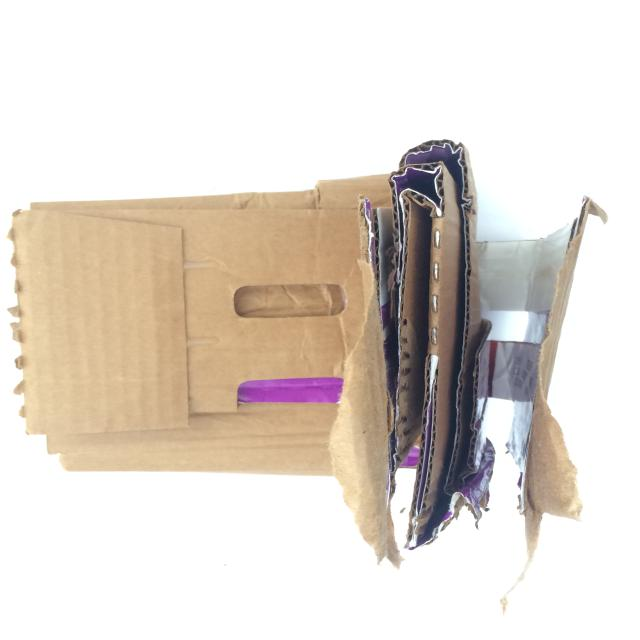cardboard: (0, 132, 613, 576)
